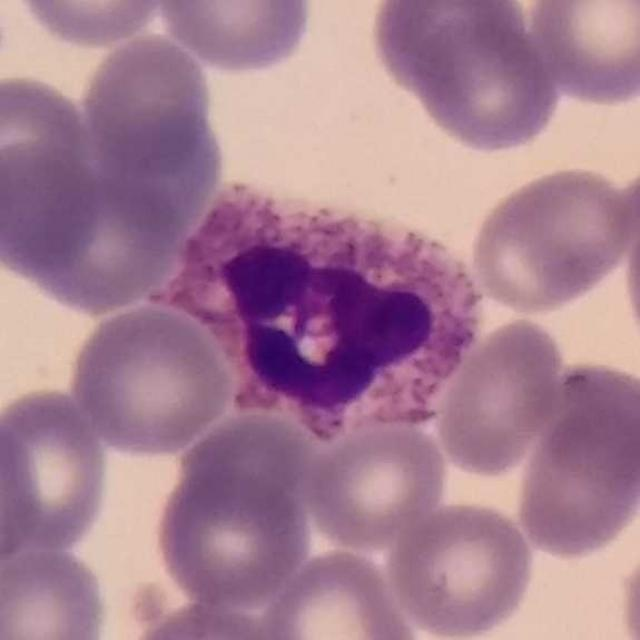Neutrophil: (157, 174, 501, 462)
RBC: (1, 155, 185, 317), (465, 160, 639, 316), (65, 300, 236, 458), (149, 450, 316, 610), (400, 2, 563, 157), (512, 370, 640, 564), (432, 312, 569, 480), (384, 496, 539, 640), (302, 416, 452, 551), (77, 31, 217, 174), (0, 383, 112, 557), (173, 408, 317, 521), (365, 0, 526, 101), (255, 545, 423, 640), (0, 137, 105, 284), (0, 68, 95, 218), (522, 0, 640, 107), (155, 0, 317, 76), (0, 542, 114, 640), (10, 0, 169, 50), (0, 404, 41, 575), (120, 601, 297, 640), (619, 187, 640, 373), (614, 528, 639, 640)
